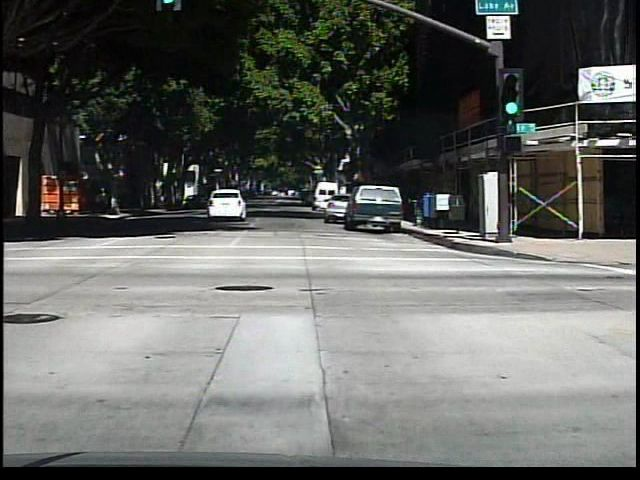person: (93, 183, 109, 218)
